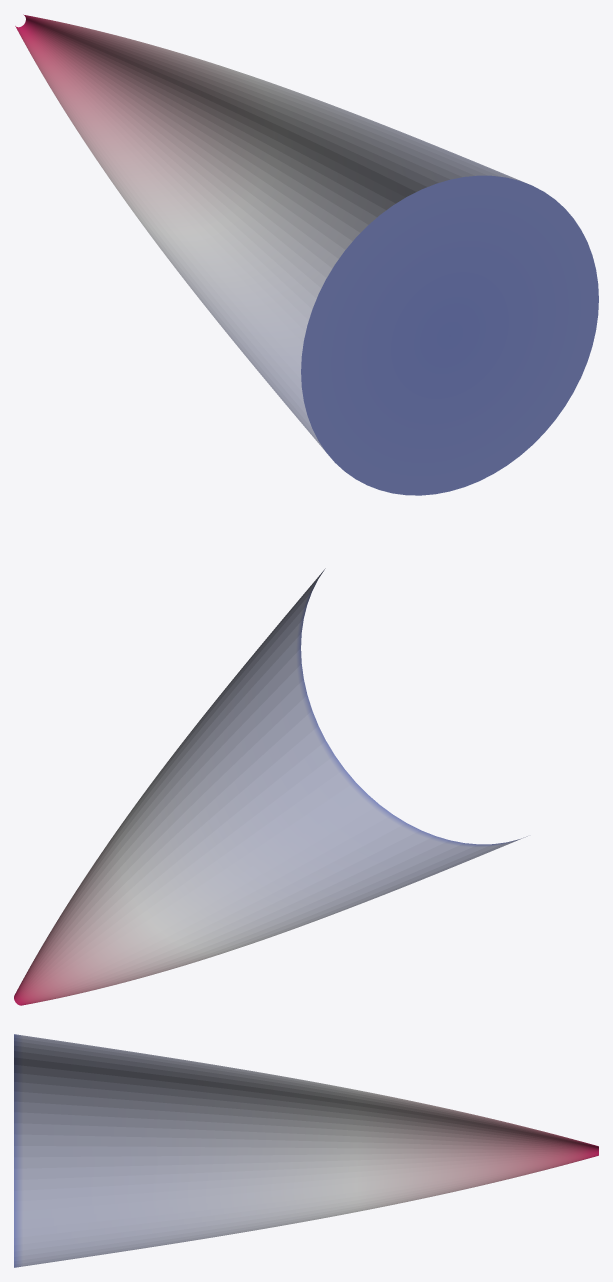
The model's file is frame_038.glb.
The picture shows the model from 3 angles, top to bottom: view 1: azimuth 30°, elevation 25°; view 2: azimuth 150°, elevation 25°; view 3: azimuth 270°, elevation 25°; orthographic projection. The views are drawn at different scales.
Parts seen in each view (by area): view 1: world; view 2: world; view 3: world.
Part boxes in pixels (bbox=[...]): world: bbox=[15, 14, 598, 495]; world: bbox=[14, 568, 527, 1005]; world: bbox=[14, 1034, 598, 1267].
Size of the model in its own units: 0.4 by 0.4 by 1.
